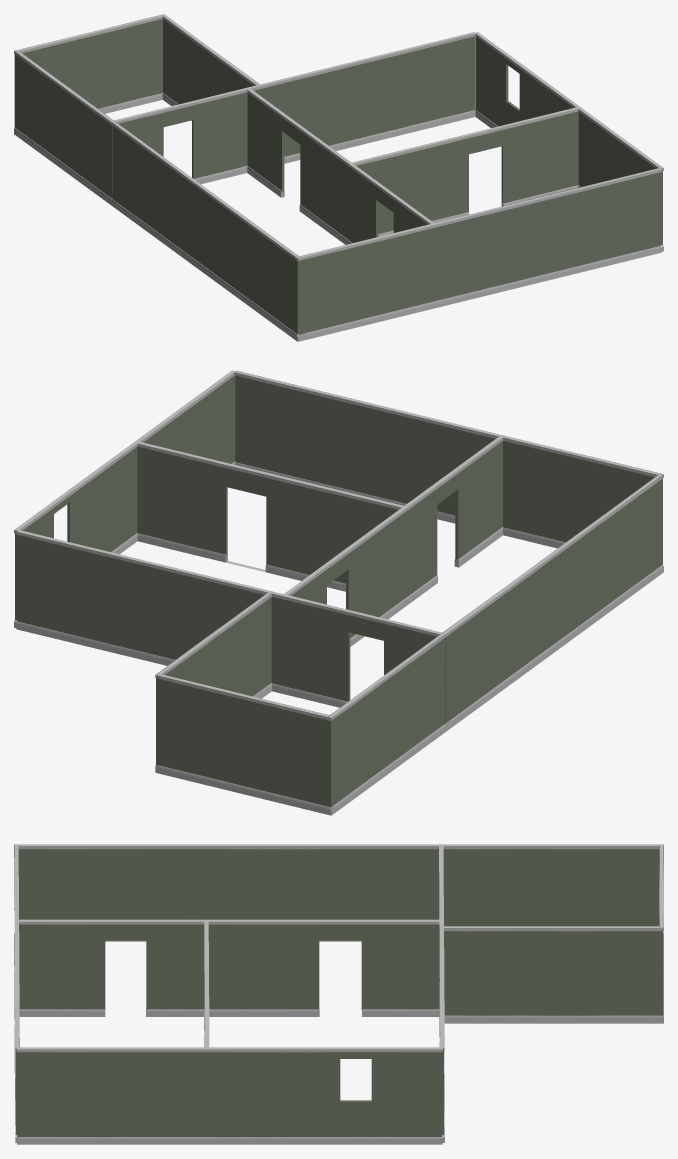
The model's file is WallsBroken.fbx.
The picture shows the model from 3 angles, top to bottom: view 1: azimuth 30°, elevation 25°; view 2: azimuth 150°, elevation 25°; view 3: azimuth 270°, elevation 25°; orthographic projection. The views are drawn at different scales.
Parts seen in each view (by area): view 1: polySurface27, polySurface32, polySurface28, polySurface25, polySurface24, polySurface30, polySurface26, polySurface29, polySurface31; view 2: polySurface27, polySurface32, polySurface28, polySurface25, polySurface30, polySurface24, polySurface26, polySurface29, polySurface31; view 3: polySurface26, polySurface24, polySurface28, polySurface31, polySurface29, polySurface27, polySurface32, polySurface25, polySurface30.
Boxes of the visible parts, x1=… form: polySurface27: x1=297, y1=168, x2=661, y2=341; polySurface32: x1=112, y1=32, x2=475, y2=184; polySurface28: x1=111, y1=121, x2=298, y2=341; polySurface25: x1=352, y1=107, x2=578, y2=236; polySurface24: x1=247, y1=88, x2=434, y2=244; polySurface30: x1=15, y1=14, x2=165, y2=113; polySurface26: x1=475, y1=32, x2=663, y2=251; polySurface29: x1=14, y1=50, x2=114, y2=205; polySurface31: x1=162, y1=14, x2=260, y2=120; polySurface27: x1=234, y1=370, x2=662, y2=548; polySurface32: x1=16, y1=530, x2=442, y2=707; polySurface28: x1=442, y1=474, x2=663, y2=731; polySurface25: x1=135, y1=441, x2=403, y2=591; polySurface30: x1=155, y1=674, x2=330, y2=815; polySurface24: x1=284, y1=436, x2=502, y2=646; polySurface26: x1=14, y1=370, x2=235, y2=627; polySurface29: x1=328, y1=633, x2=445, y2=815; polySurface31: x1=155, y1=592, x2=272, y2=772; polySurface26: x1=17, y1=1047, x2=442, y2=1144; polySurface24: x1=18, y1=919, x2=439, y2=1016; polySurface28: x1=15, y1=844, x2=440, y2=941; polySurface31: x1=443, y1=926, x2=663, y2=1023; polySurface29: x1=440, y1=844, x2=663, y2=926; polySurface27: x1=14, y1=844, x2=19, y2=1142; polySurface32: x1=439, y1=845, x2=444, y2=1142; polySurface25: x1=204, y1=921, x2=209, y2=1048; polySurface30: x1=659, y1=845, x2=663, y2=1022.
Size of the model in its own units: 1371 by 297 by 1835.
Materials: 1 (1 with a texture image).
